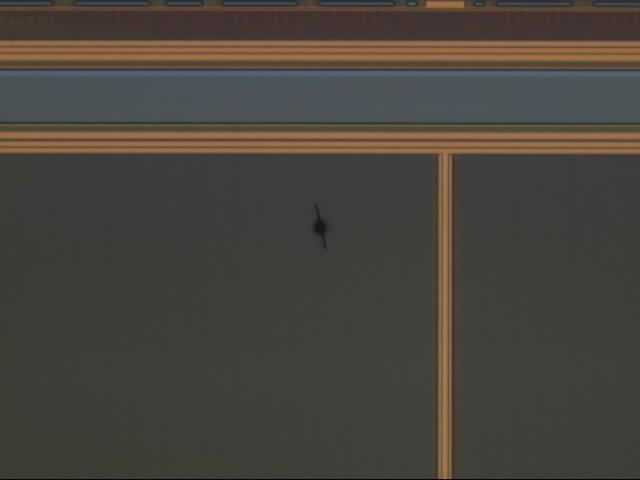PIQ PARTICLE: (309, 201, 335, 253)
